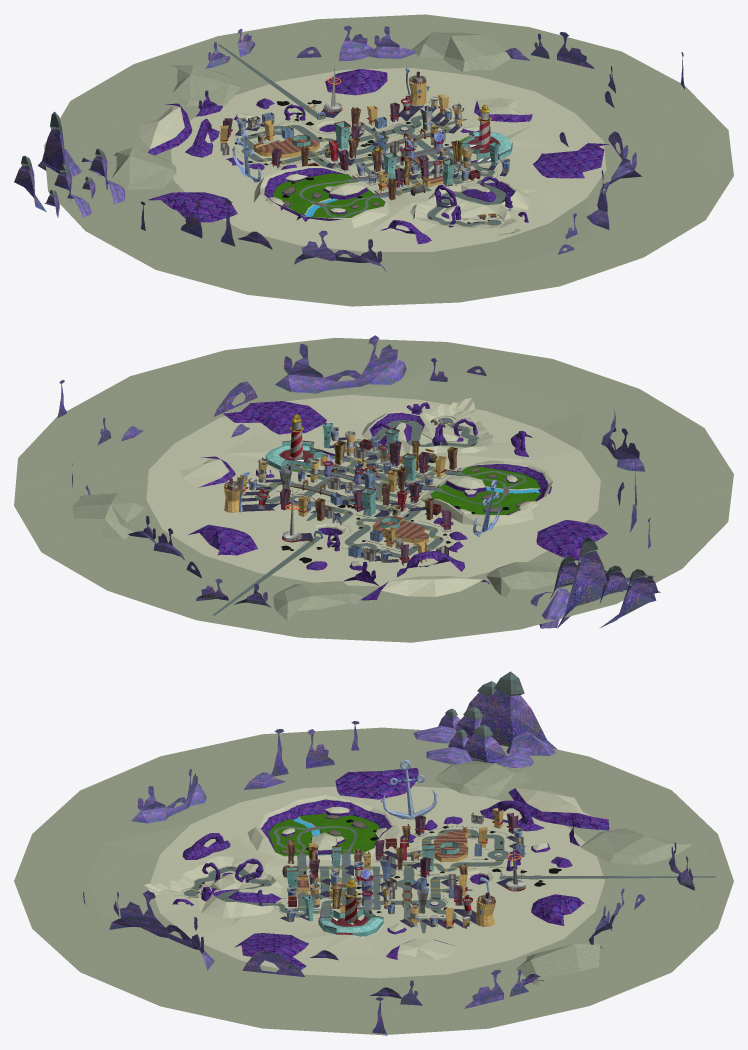
The model's file is map.glb.
3 views of the same model, one above another, from view 1: azimuth 30°, elevation 25°; view 2: azimuth 150°, elevation 25°; view 3: azimuth 270°, elevation 25° (orthographic). The views are drawn at different scales.
Visible parts, largest first — view 1: Object_11, Object_52, Object_21, Object_59, Object_54, Object_46, Object_49, Object_44, Object_47, Object_39, Object_53, Object_40 (+6 smaller); view 2: Object_11, Object_52, Object_21, Object_59, Object_54, Object_46, Object_49, Object_44, Object_47, Object_39, Object_53, Object_45 (+7 smaller); view 3: Object_11, Object_52, Object_21, Object_59, Object_54, Object_46, Object_49, Object_53, Object_47, Object_39, Object_44, Object_40 (+6 smaller).
Boxes of the visible parts, x1,y1,x2,y2 form: Object_11: (44,14,733,306); Object_52: (139,68,606,251); Object_21: (14,25,684,273); Object_59: (148,69,609,244); Object_54: (21,44,506,226); Object_46: (220,66,510,183); Object_49: (273,136,469,217); Object_44: (221,76,497,199); Object_47: (220,78,480,191); Object_39: (292,122,512,201); Object_53: (218,44,505,225); Object_40: (232,68,509,219); Object_11: (14,337,733,642); Object_52: (146,394,600,596); Object_21: (57,335,660,628); Object_59: (188,401,607,600); Object_54: (213,418,653,615); Object_46: (226,421,449,562); Object_49: (292,452,541,514); Object_44: (224,422,457,553); Object_47: (223,433,446,563); Object_39: (265,424,466,528); Object_53: (212,417,478,615); Object_45: (229,441,454,565); Object_11: (14,727,733,1035); Object_52: (144,786,604,978); Object_21: (83,689,694,1035); Object_59: (172,768,609,970); Object_54: (184,671,714,933); Object_46: (286,813,525,928); Object_49: (268,813,380,923); Object_53: (183,829,715,932); Object_47: (288,808,503,928); Object_39: (285,842,459,936); Object_44: (286,812,523,916); Object_40: (202,760,522,924).
Size of the model in its own units: 504 by 71.15 by 488.
Materials: 68 (67 with a texture image).
